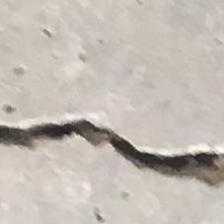Crack: (0, 110, 224, 195)
